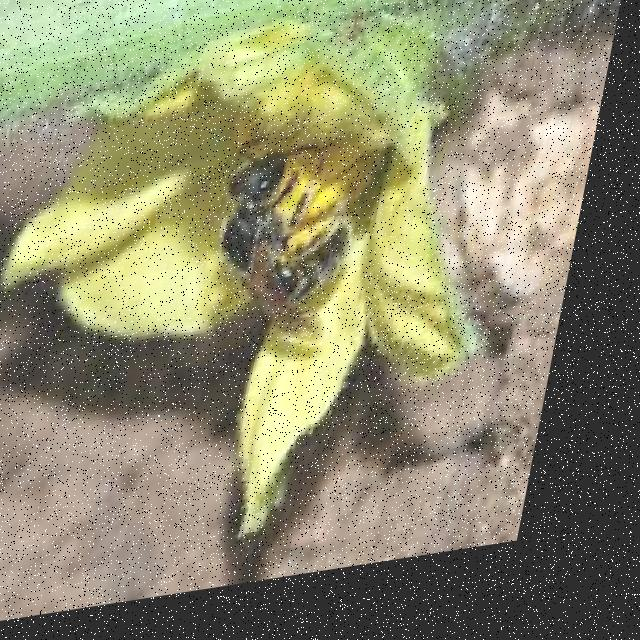Lasioglossum: (195, 120, 406, 373)
